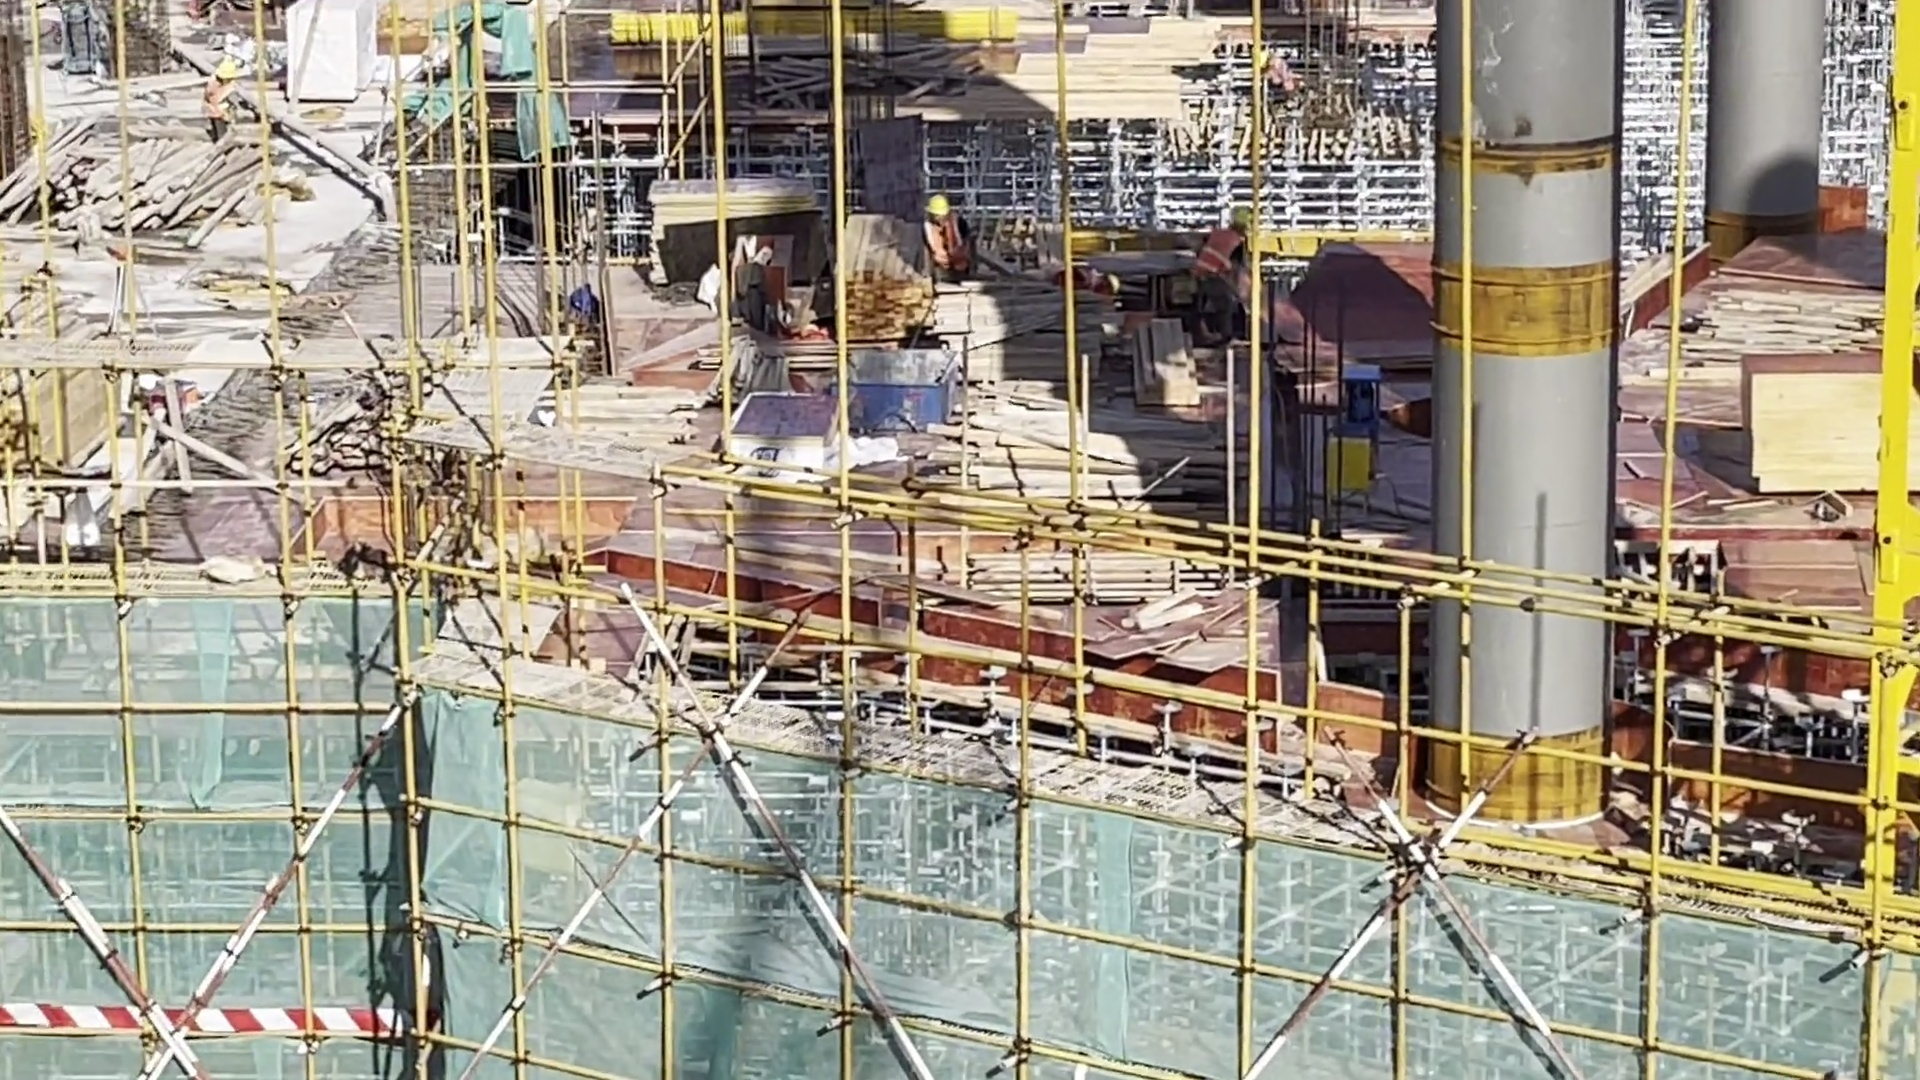board: (1743, 351, 1920, 509), (641, 177, 836, 284)
helmet: (921, 193, 956, 226), (1221, 211, 1253, 240)
hopper: (844, 349, 979, 438)
person: (1193, 208, 1268, 341), (923, 197, 979, 293)
vest: (1196, 225, 1248, 307), (926, 219, 973, 281)
wood: (962, 385, 1234, 501), (837, 212, 945, 337), (1132, 318, 1204, 407)
